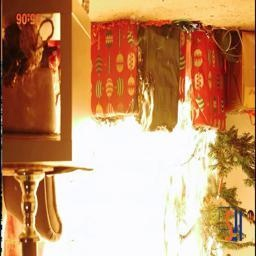fire: (34, 101, 230, 256)
